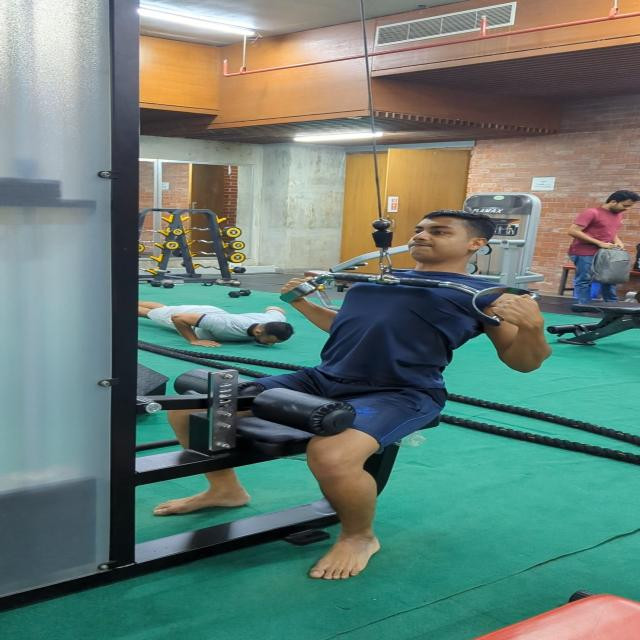Normal_LatPulldown: (145, 205, 575, 585)
